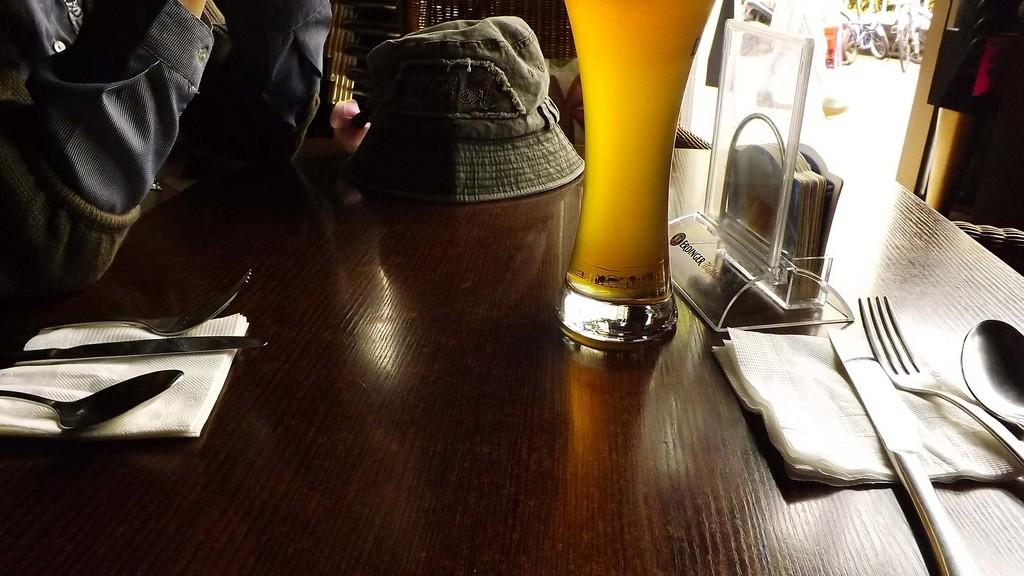Hat: (348, 16, 584, 198)
